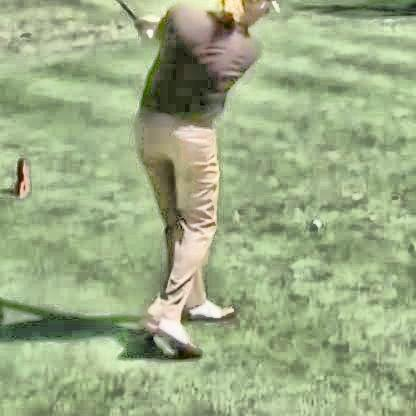golfball: (308, 219, 319, 226)
